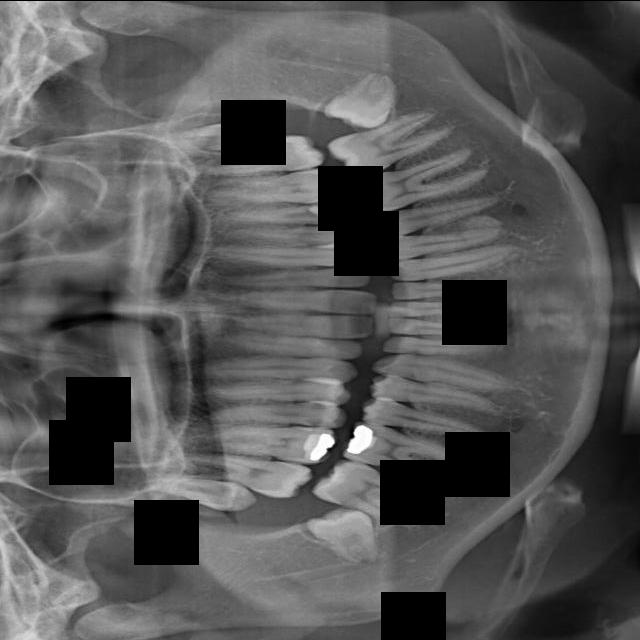3M ESPE Implant: (142, 468, 258, 517)
AGS Medikal Implant: (324, 101, 463, 183)
AMerOss Implant: (349, 139, 495, 221)
Amalgam filling: (165, 440, 315, 504)
Anthogyr Implant: (371, 192, 508, 238)
Bicon Implant: (380, 225, 511, 260)
BioHorizons Implant: (383, 241, 521, 285)
BioLife Implant: (390, 278, 493, 300)
Biomet 3i Implant: (387, 300, 490, 317)
Blue Sky Bio Implant: (386, 318, 474, 336)
Camlog Implant: (380, 335, 493, 355)
Caries: (217, 266, 372, 292)
Composite filling: (369, 347, 522, 396)
Cowellmedi Implant: (366, 372, 505, 421)
Crown: (357, 395, 504, 446)
DENTSPLY Implant: (191, 425, 337, 464)
Dentatus Implant: (339, 414, 479, 498)
Dentis Implant: (309, 451, 441, 535)
Dentium Implant: (302, 488, 396, 574)
Euroteknika Implant: (204, 396, 348, 427)
Filling: (209, 374, 353, 406)
Frontier Implant: (190, 354, 359, 381)
Hiossen Implant: (192, 244, 373, 266)
Implant: (233, 313, 374, 338)
Implant Direct: (217, 328, 365, 362)
Keystone Dental Implant: (228, 282, 379, 315)
MIS Implant: (228, 221, 366, 249)
Mandible: (219, 197, 357, 229)
Maxilla: (203, 165, 350, 211)
Megagen Implant: (188, 128, 327, 185)
Neodent Implant: (154, 117, 273, 157)
Neoss Implant: (319, 63, 409, 147)
